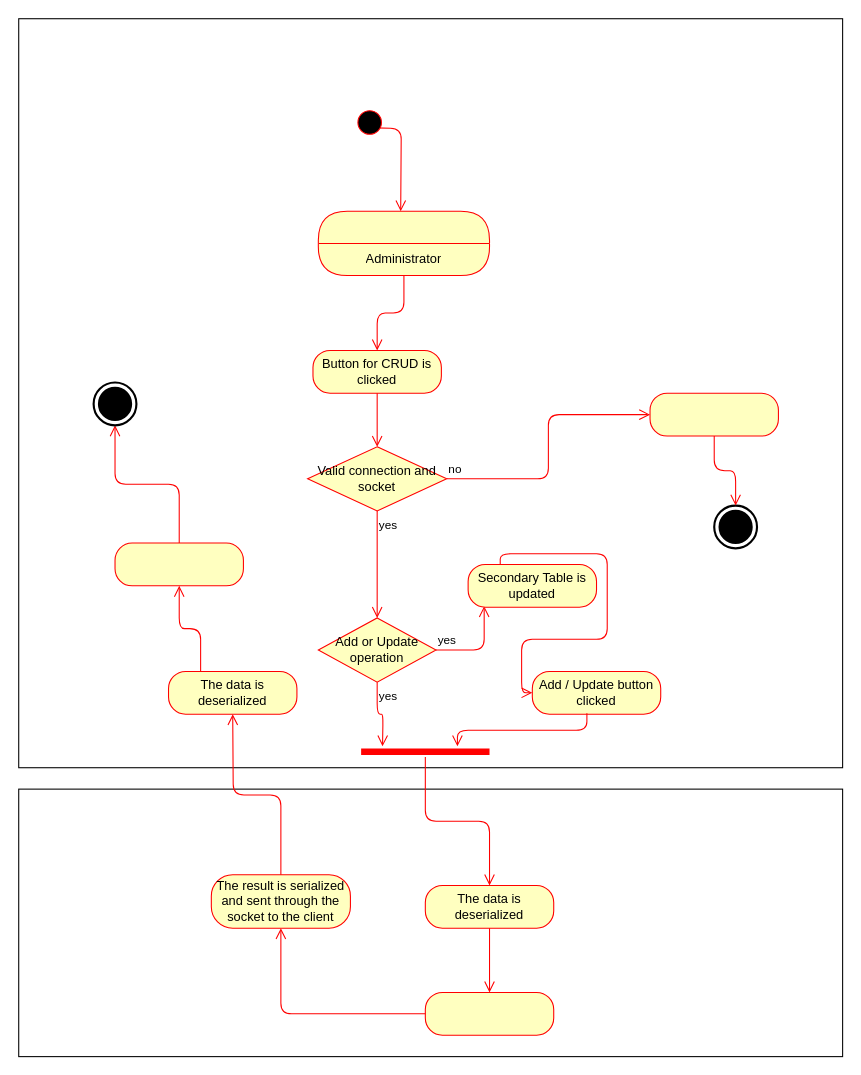
Some shapes in this 861 by 1075 pixel diagram are drawn without their labels. Each missing label, with the box of its shape:
Display 'Failed Connection' message: (649, 392, 778, 436)
Logged In: (317, 210, 490, 276)
The DB is being querried: (424, 991, 554, 1035)
The main table is updated: (114, 542, 243, 586)
